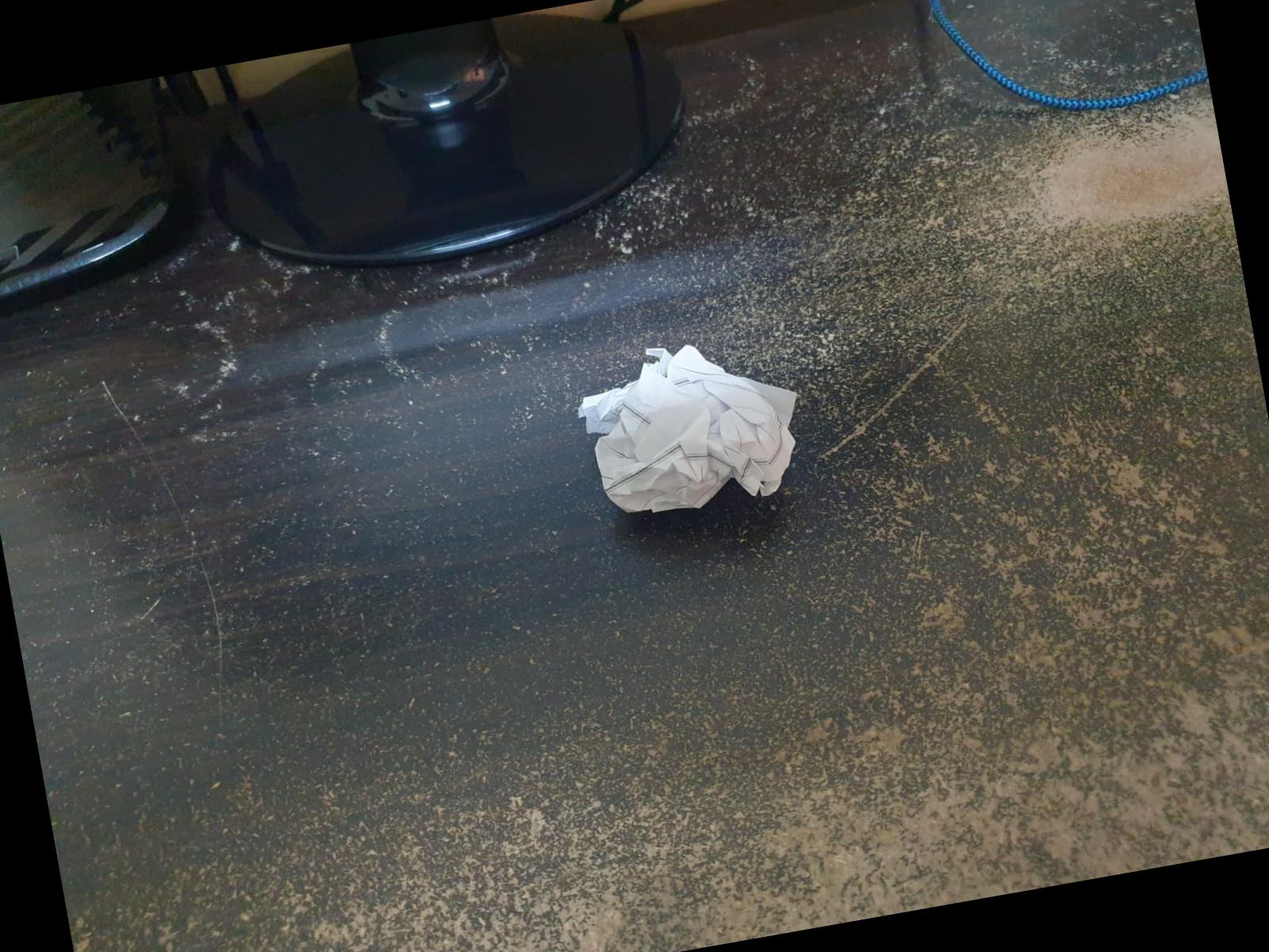Kertas: (571, 320, 830, 551), (579, 345, 795, 511)
